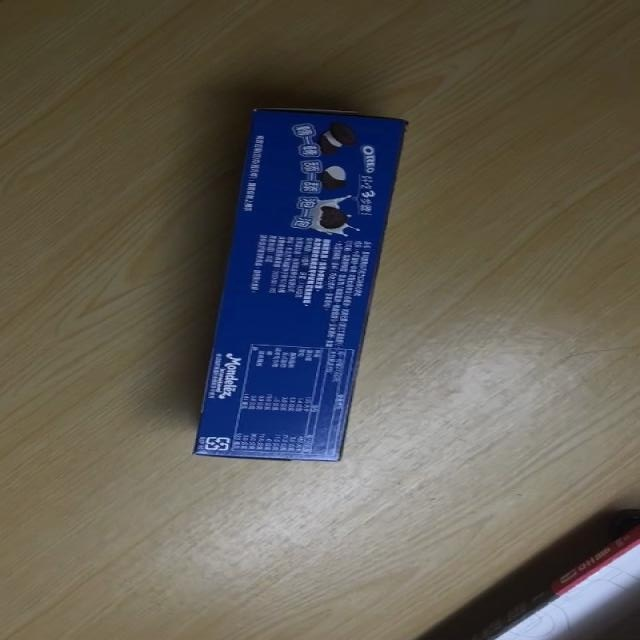Oreo: (188, 106, 407, 463)
